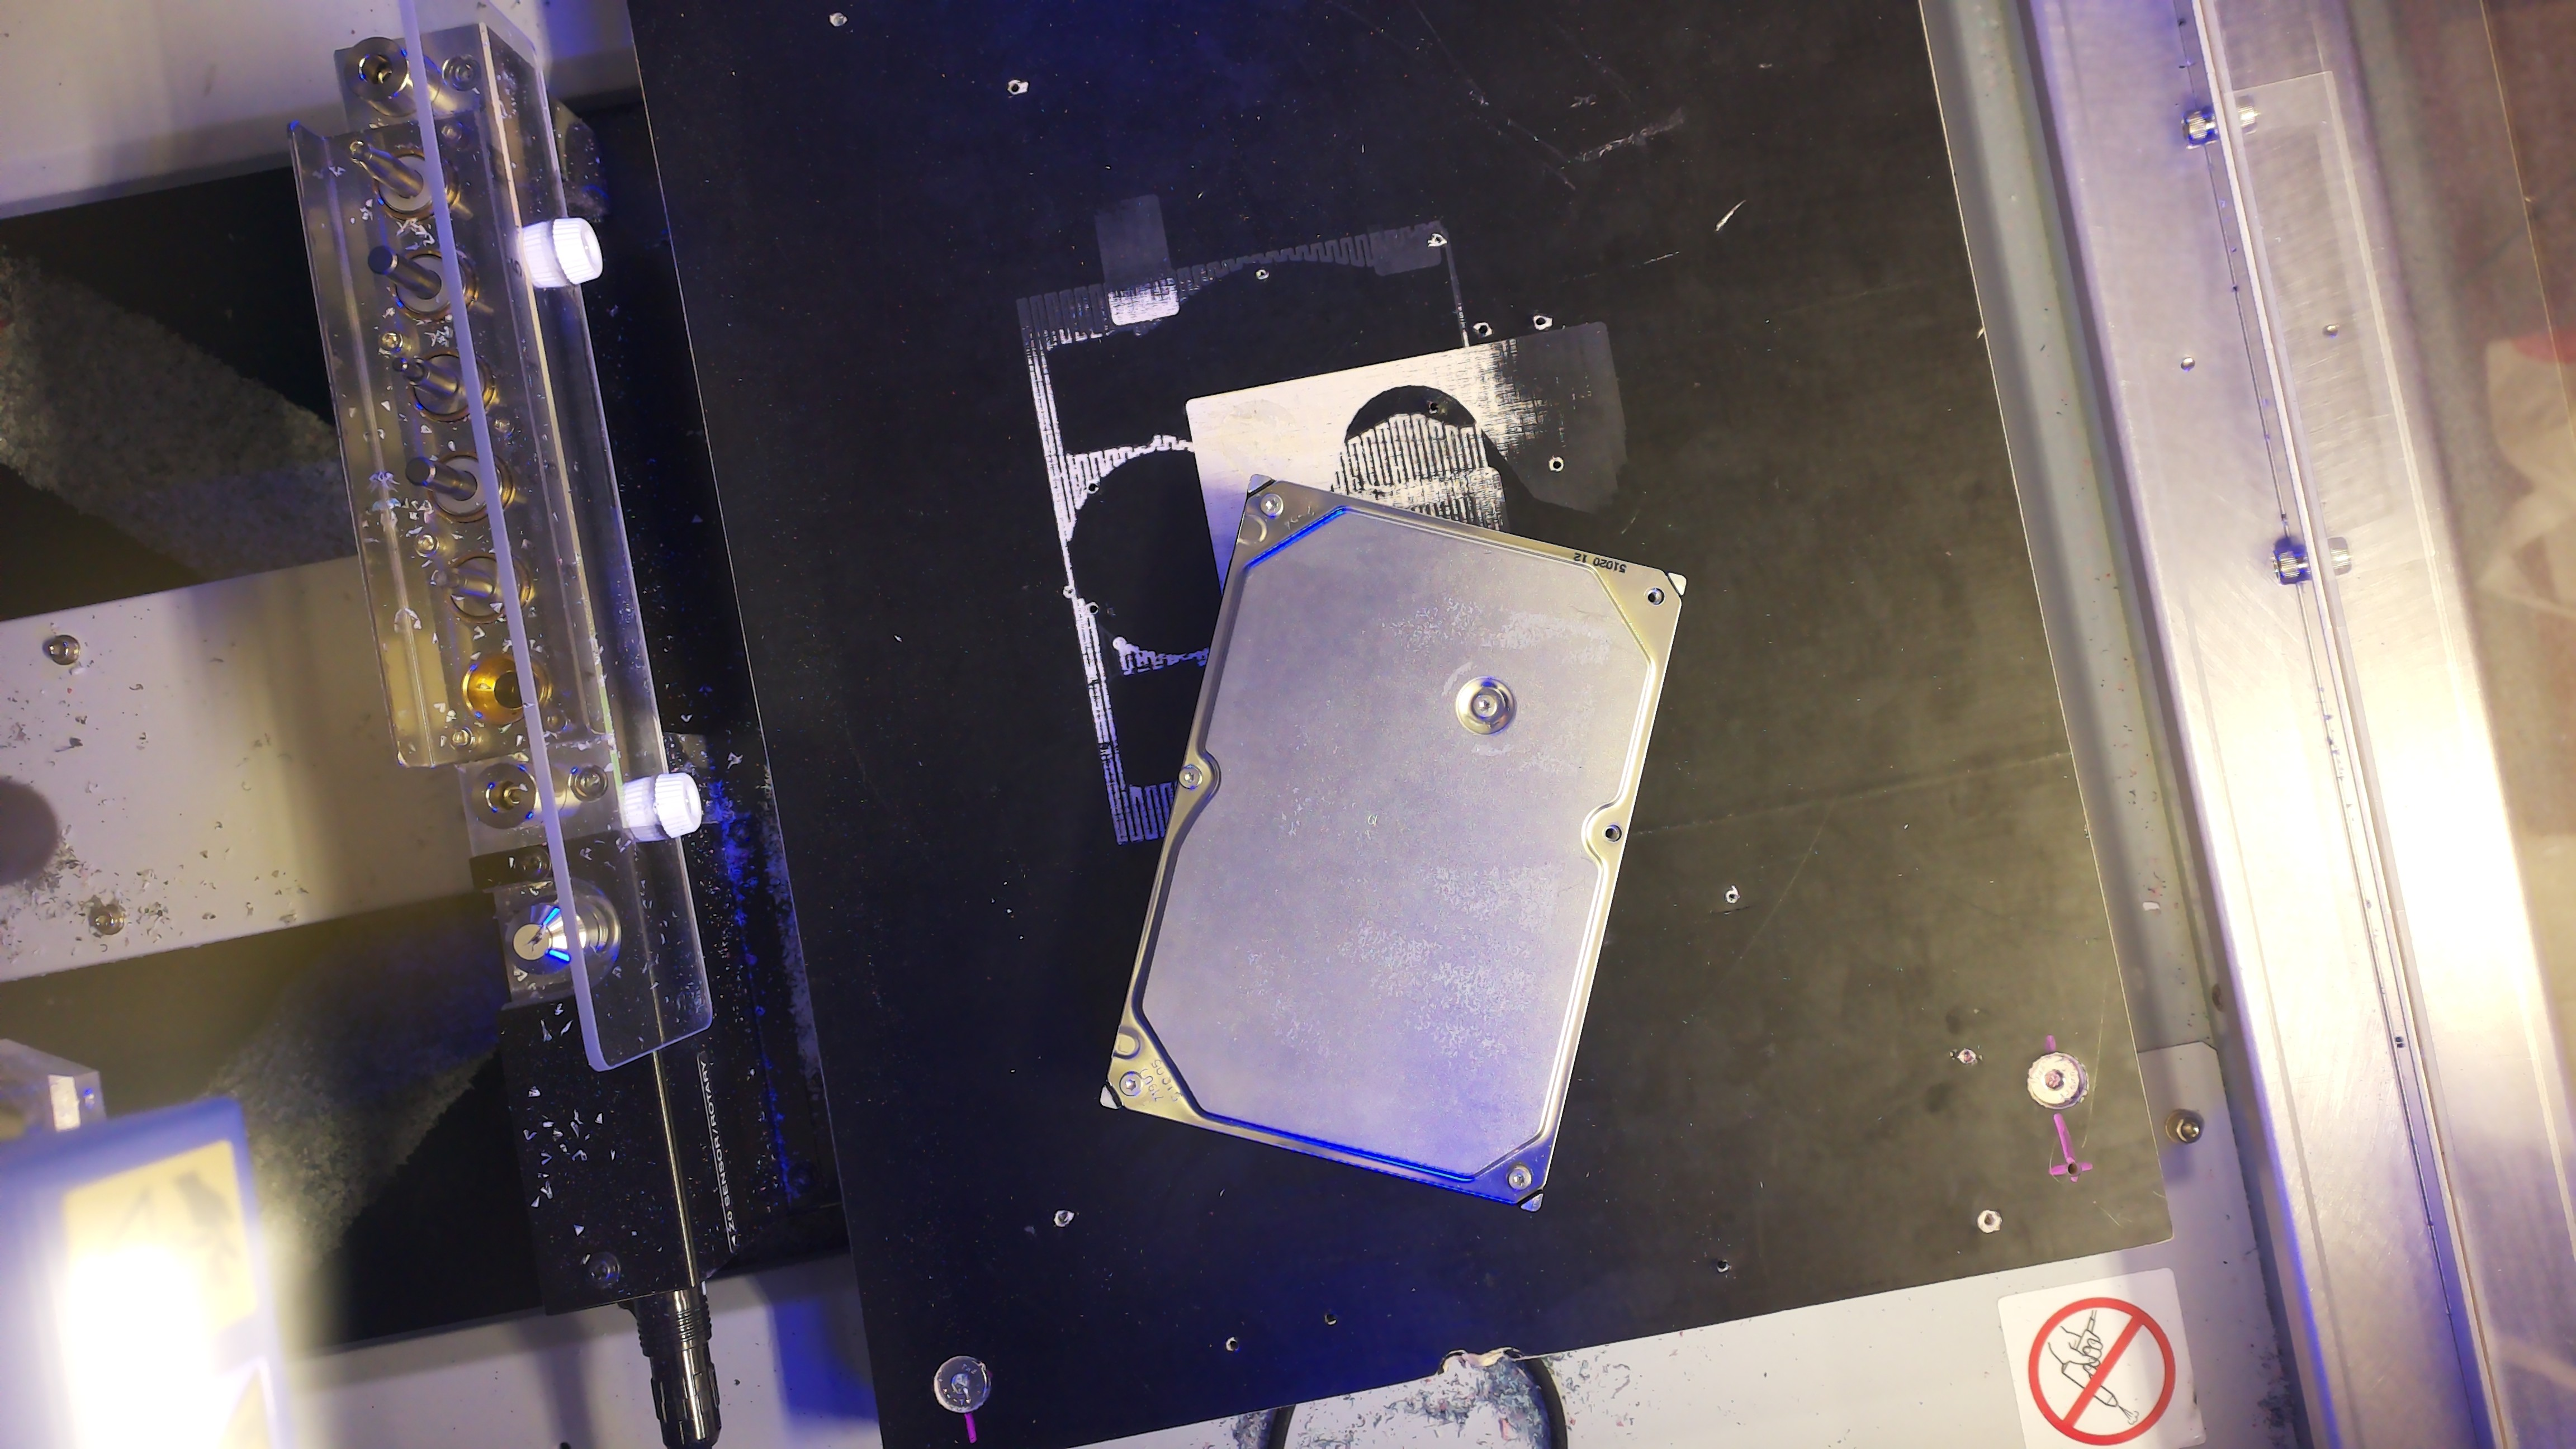Hole: (1644, 587, 1665, 607), (1603, 824, 1622, 844)
Screw: (1260, 492, 1284, 518), (1472, 694, 1497, 718), (1507, 1166, 1532, 1191), (1178, 764, 1203, 789), (1120, 1072, 1143, 1097)
